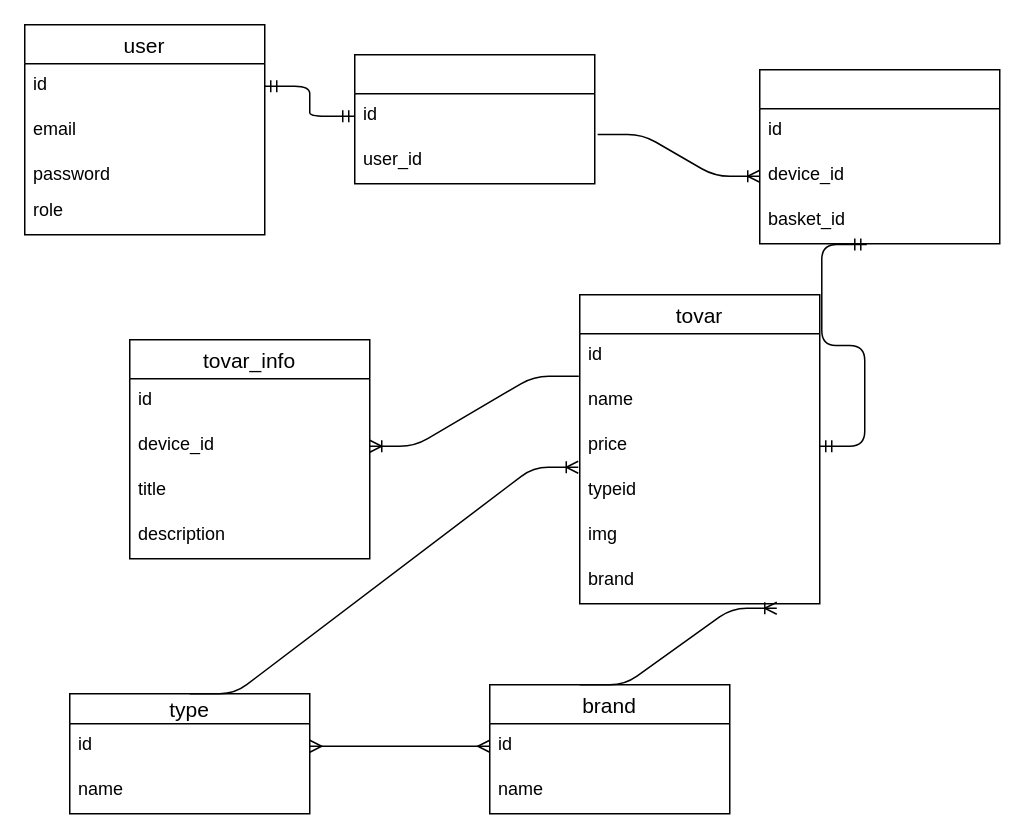
This 1025x839 diagram has some shape labels left out. Each missing label, with the box of its shape:
bascet: (353, 53, 595, 184)
bascet_device: (758, 68, 1000, 244)
